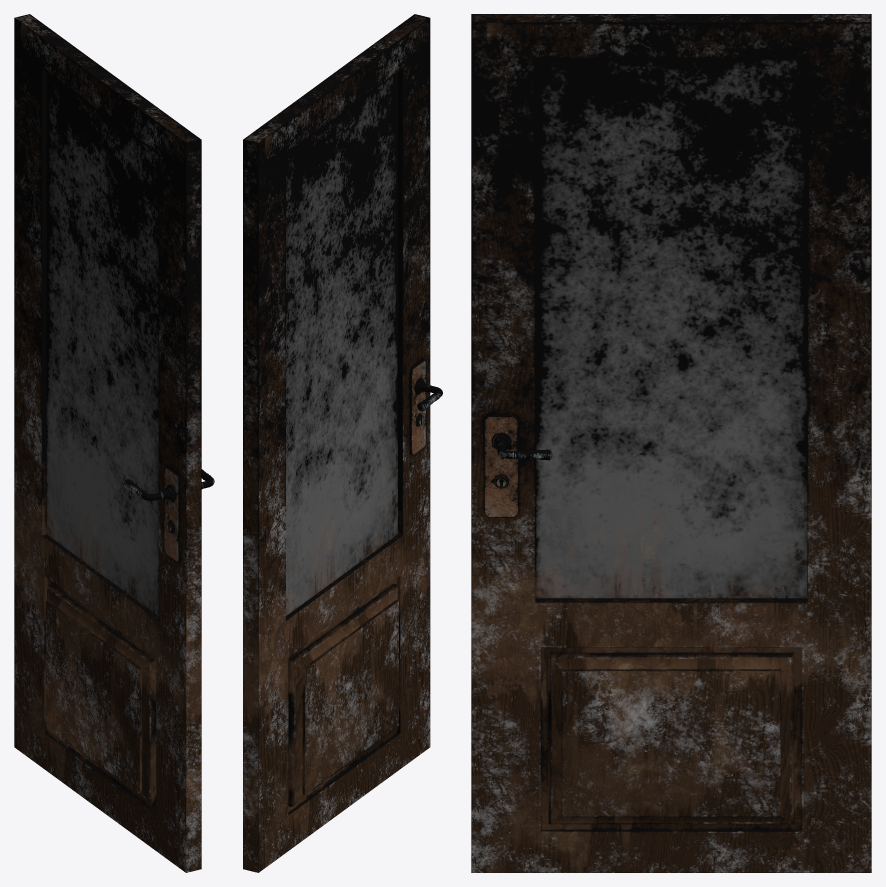
File: Door_D.fbx
The picture shows the model from 3 angles, left to right: view 1: azimuth 30°, elevation 25°; view 2: azimuth 150°, elevation 25°; view 3: azimuth 270°, elevation 25°; orthographic projection. The views are drawn at different scales.
Parts seen in each view (by area): view 1: Door_D; view 2: Door_D; view 3: Door_D.
Part boxes in pixels (left/top/right/bottom): Door_D: left=14, top=14, right=214, bottom=872; Door_D: left=243, top=14, right=442, bottom=872; Door_D: left=471, top=14, right=871, bottom=872.
Bounding box in the file's own units: 0.2472 × 1 × 2.35.
Materials: 1 (1 with a texture image).
